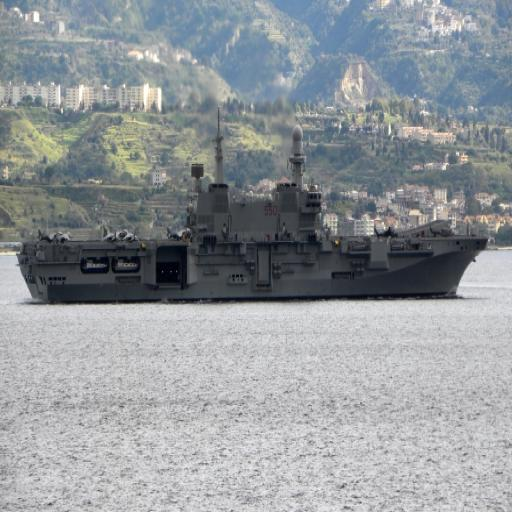Portanaves: (19, 107, 492, 308)
